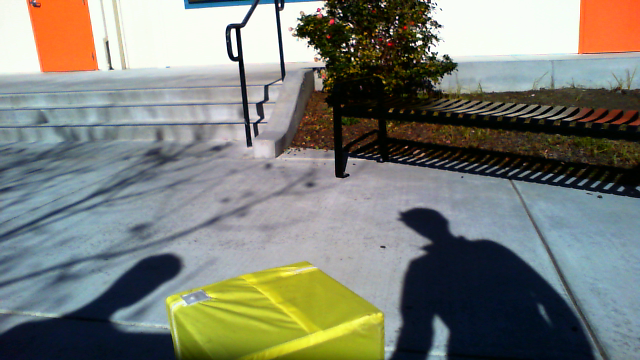cube: (165, 260, 386, 360)
